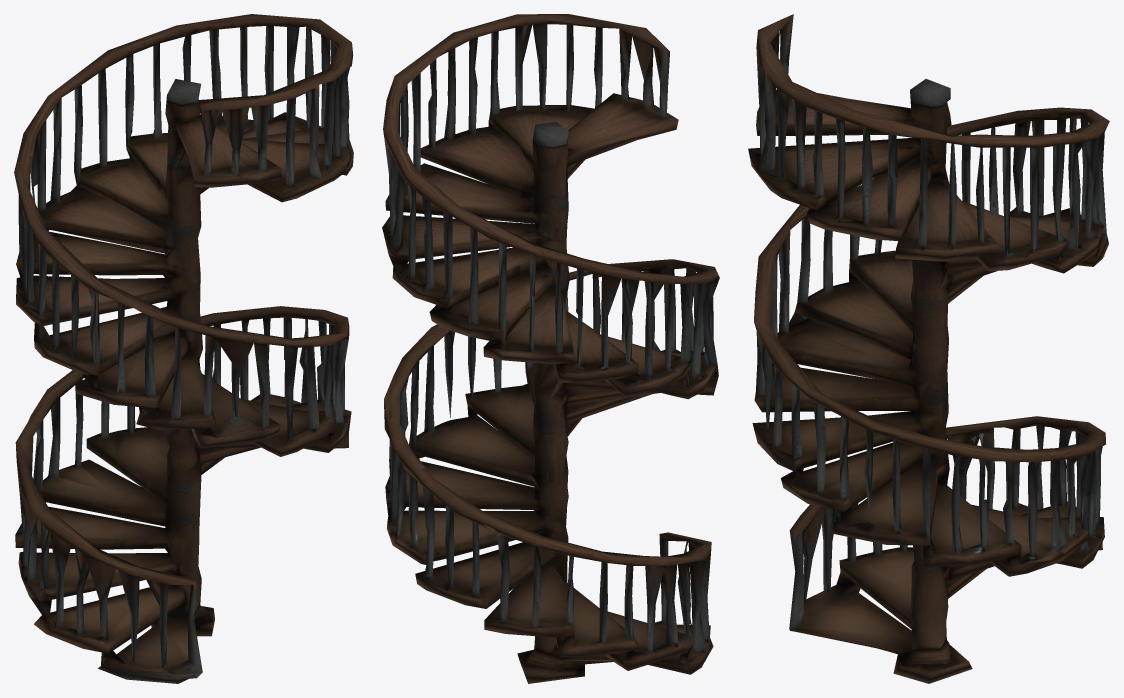
Rendered from guildstairs.glb.
3 renders of one model, left to right at view 1: azimuth 30°, elevation 25°; view 2: azimuth 150°, elevation 25°; view 3: azimuth 270°, elevation 25°, orthographic. The views are drawn at different scales.
Visible parts, largest first — view 1: tripo_node_1ea41981; view 2: tripo_node_1ea41981; view 3: tripo_node_1ea41981.
Boxes of the visible parts, x1,y1,x2,y2 form: tripo_node_1ea41981: (14,14,353,683); tripo_node_1ea41981: (382,14,719,683); tripo_node_1ea41981: (748,14,1109,683).
Bounding box in the file's own units: 2.6 × 4.95 × 2.57.
Materials: 1 (1 with a texture image).
